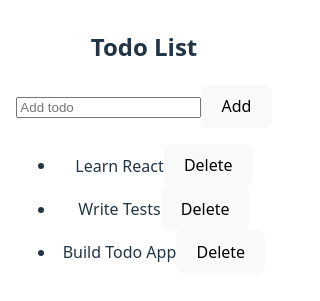
Test case: TodoList Component › adds a new todo
In the field with placeholder "Add todo": (109, 108) [16,97,201,118], type "New Todo"
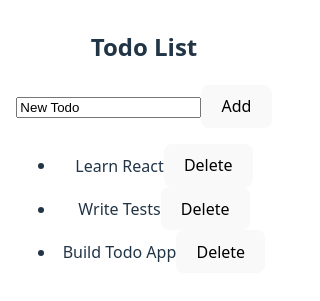
Click the button "Add": click(237, 106) [201,84,272,128]
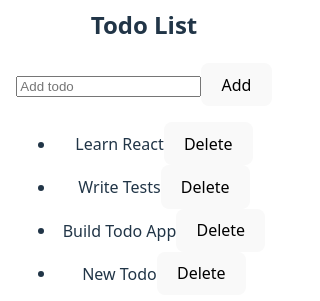
Now the list item "New Todo" is shown, box [82,262,157,284]
